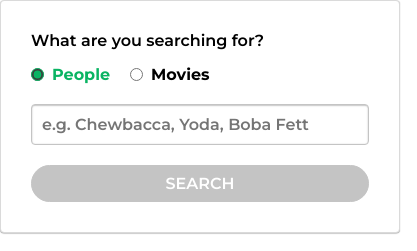
Test: SearchBar › Search button › should be enabled when input has text
The image size is (417, 251).
Type "Luke" into the field at (200, 124), box top-left (31, 104), bottom-right (369, 145)
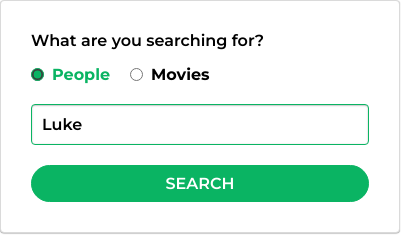
expect the button "Search" is enabled: met, box top-left (31, 165), bottom-right (369, 202)
